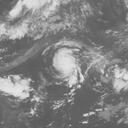cyclone: (41, 40, 89, 87)
